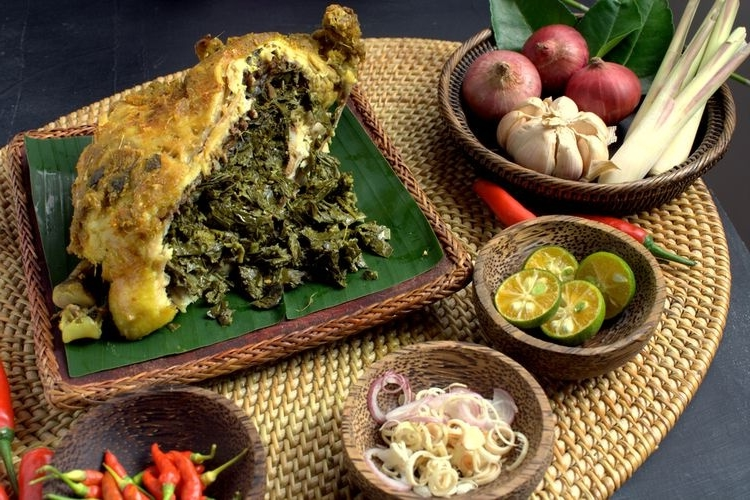ayam_betutu: (53, 4, 365, 338)
